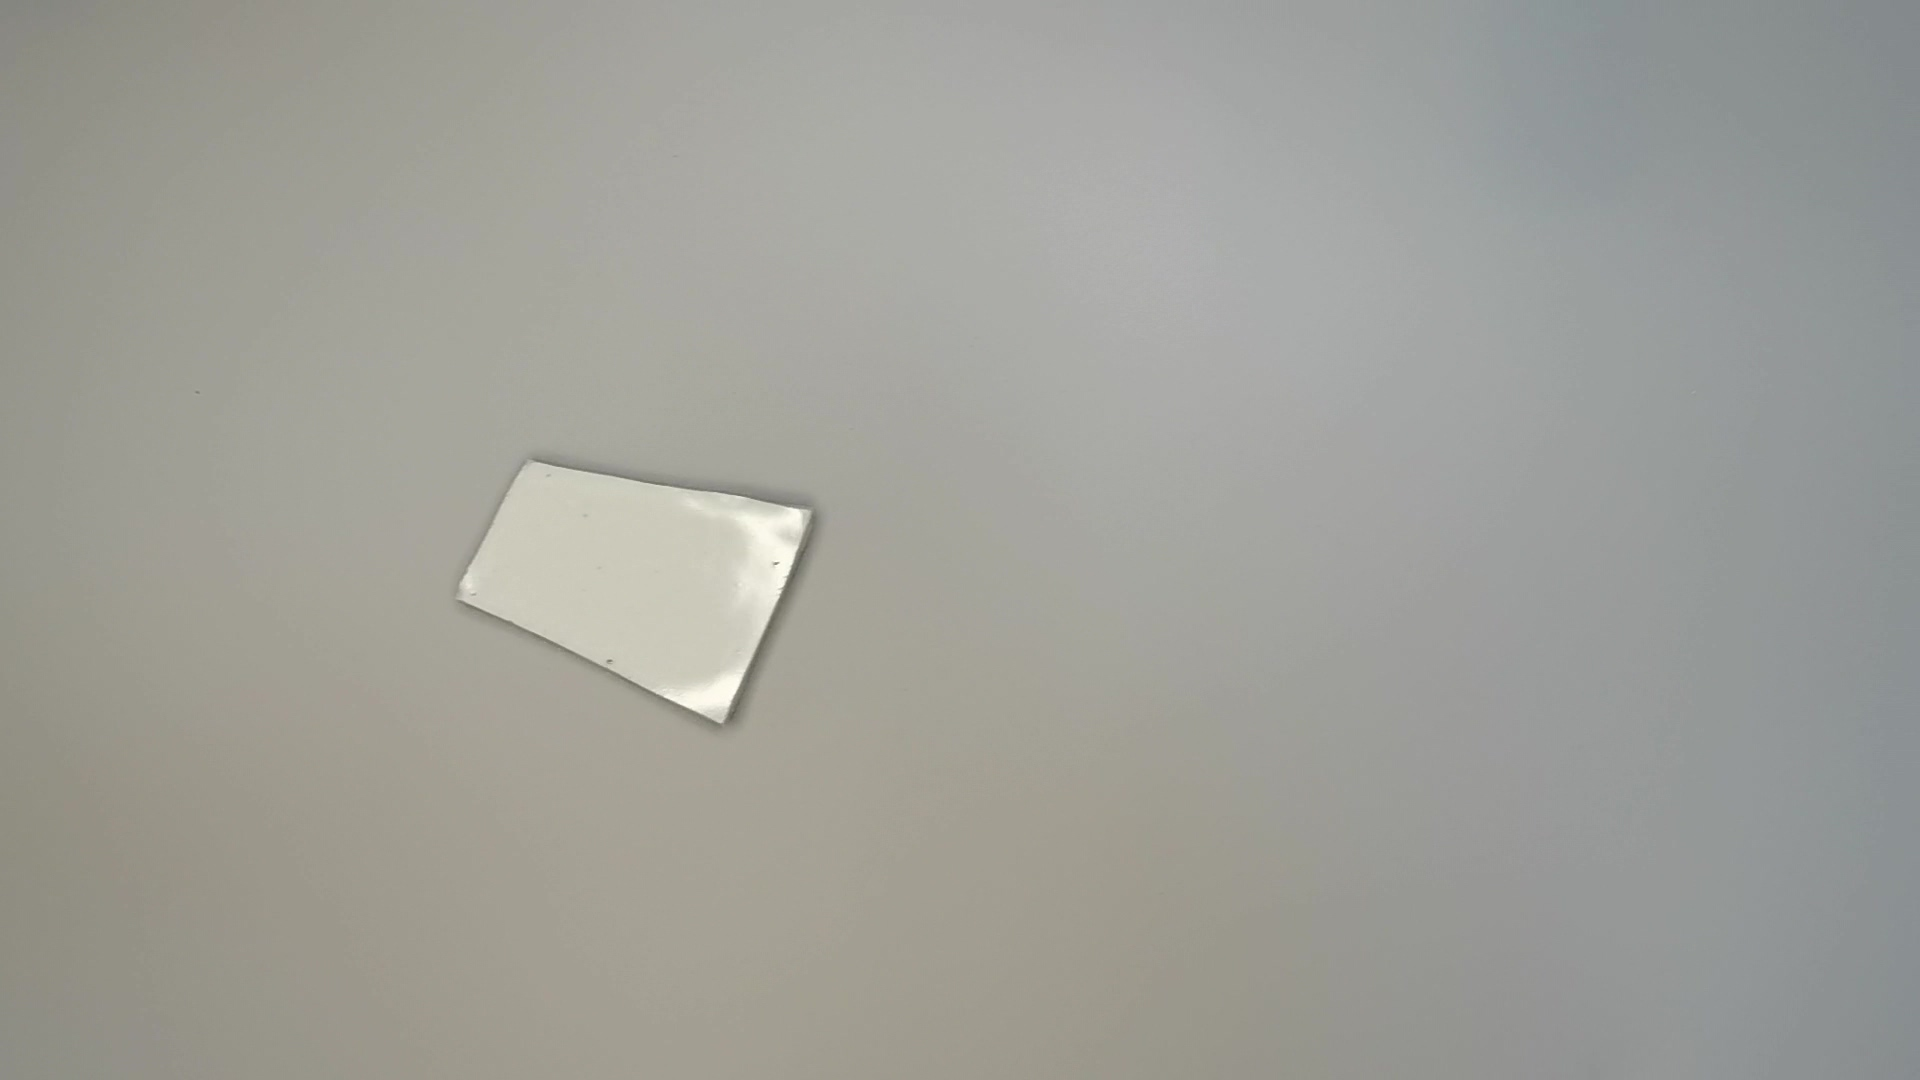ceramic: (455, 454, 822, 738)
